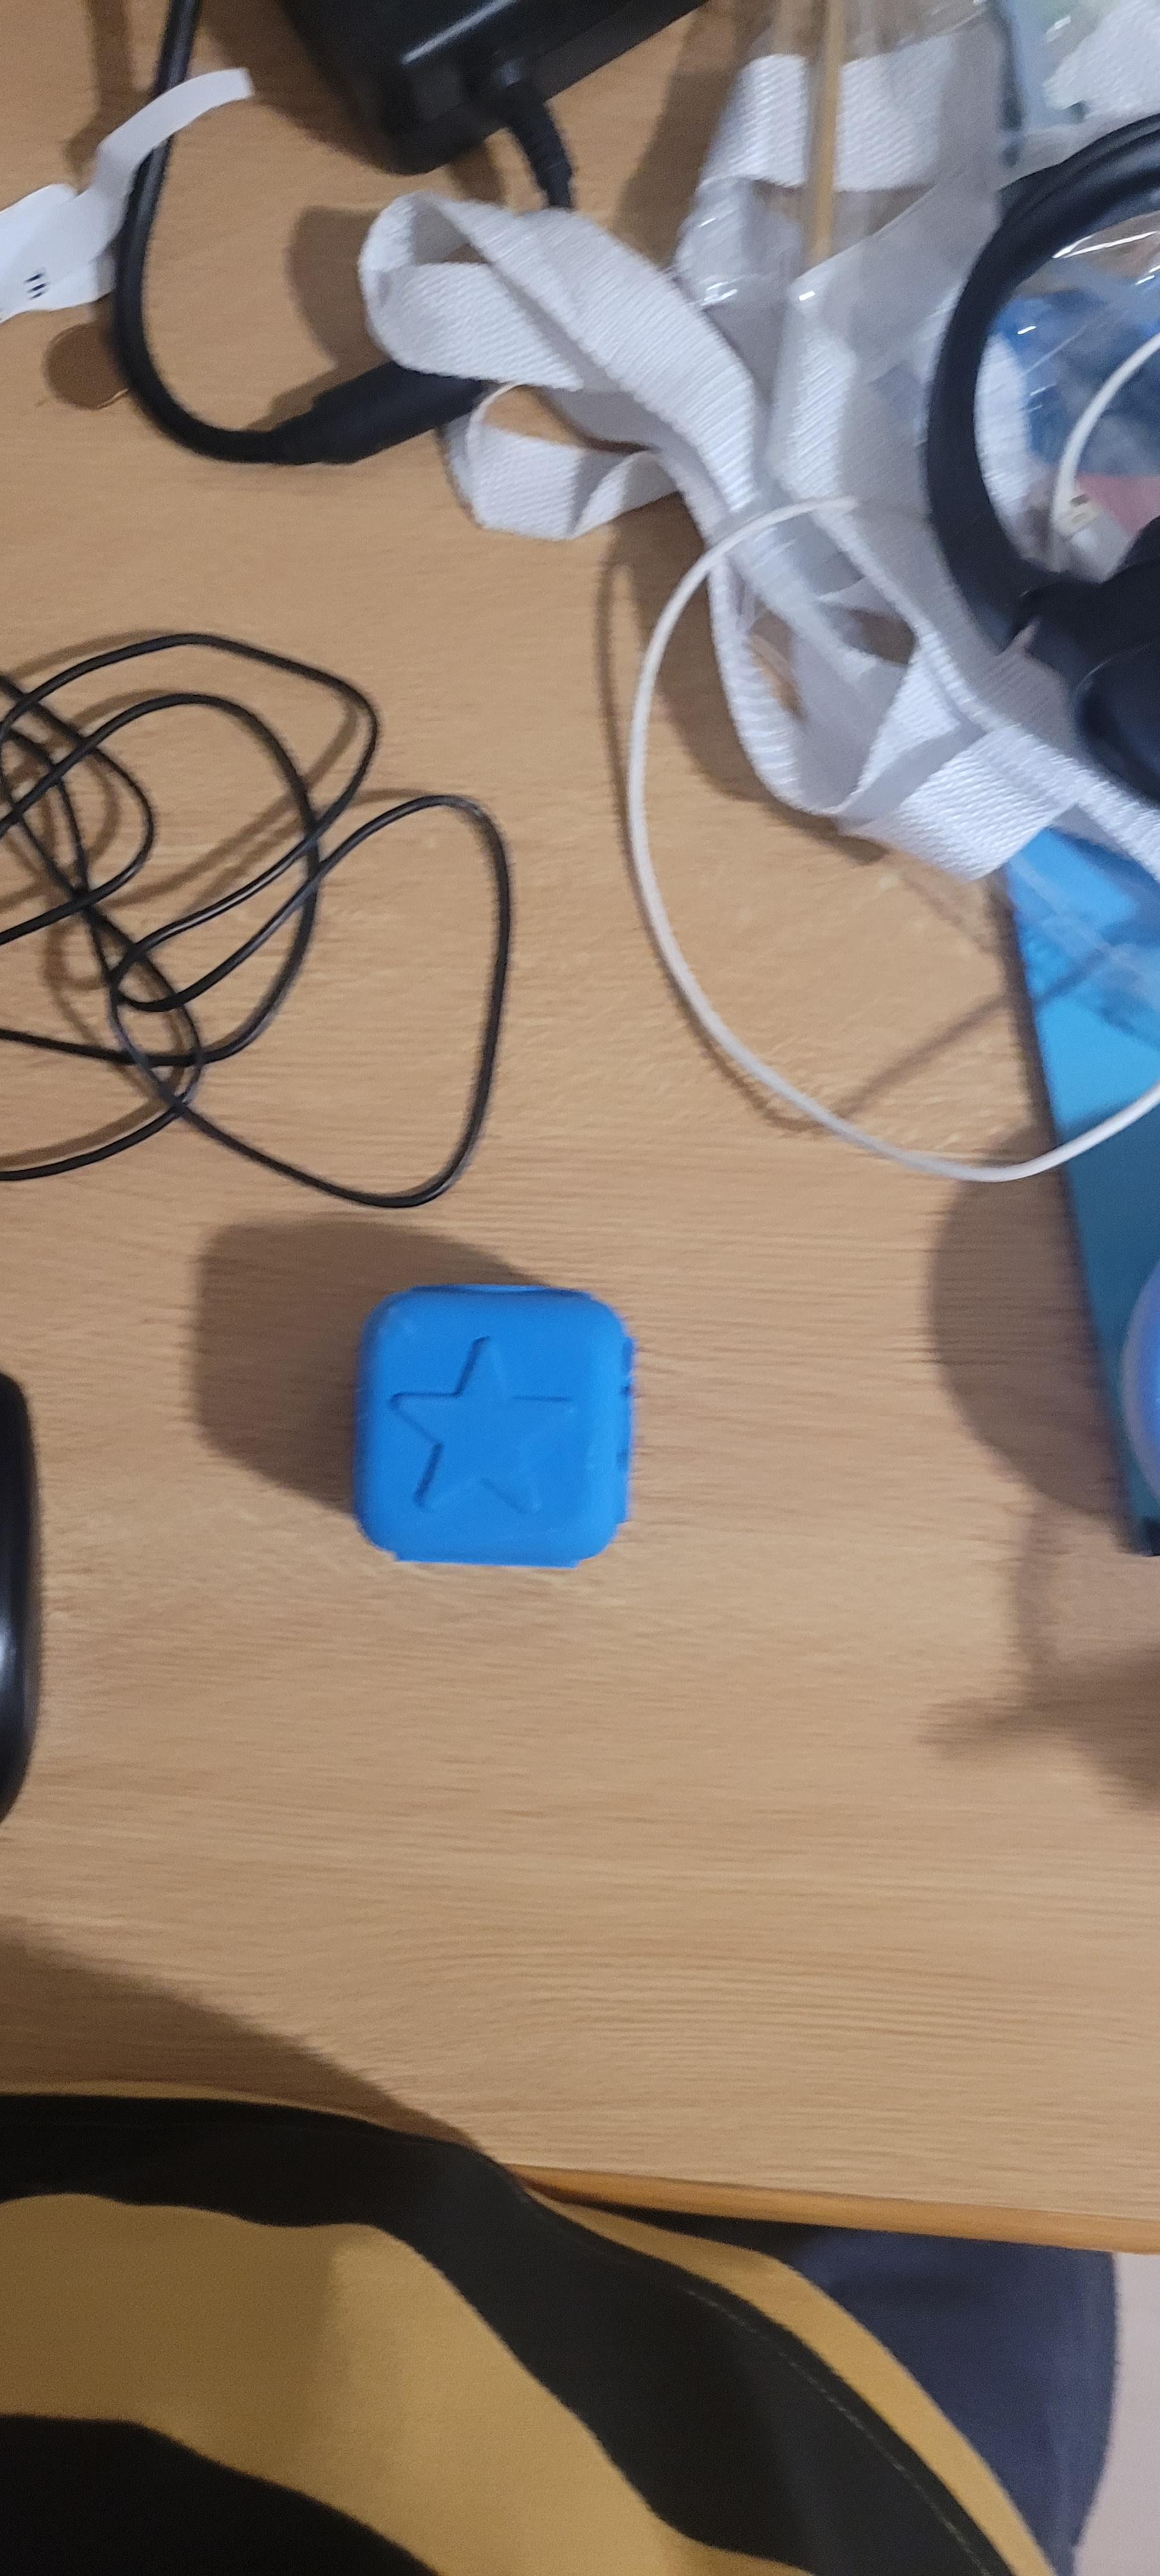Star: (343, 1295, 705, 1580)
